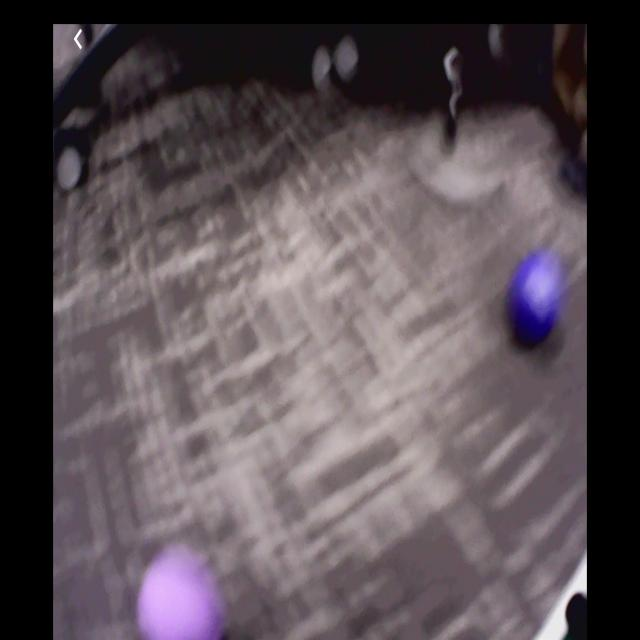ball: (134, 555, 228, 640), (508, 256, 564, 346)
